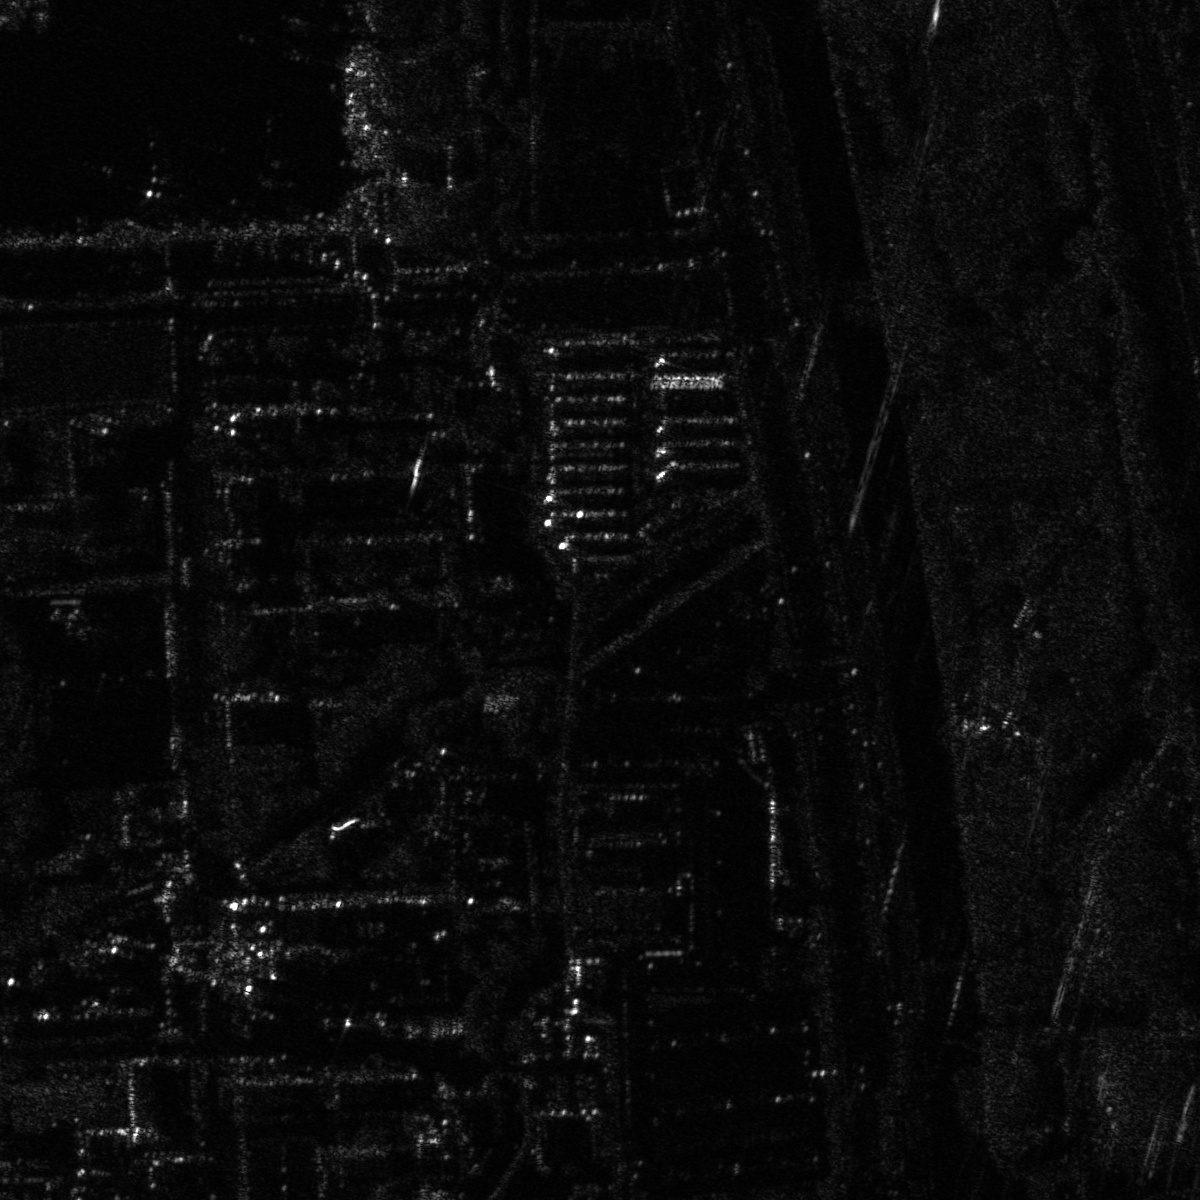Boeing787: (197, 109, 303, 215)
other: (80, 121, 203, 213)
